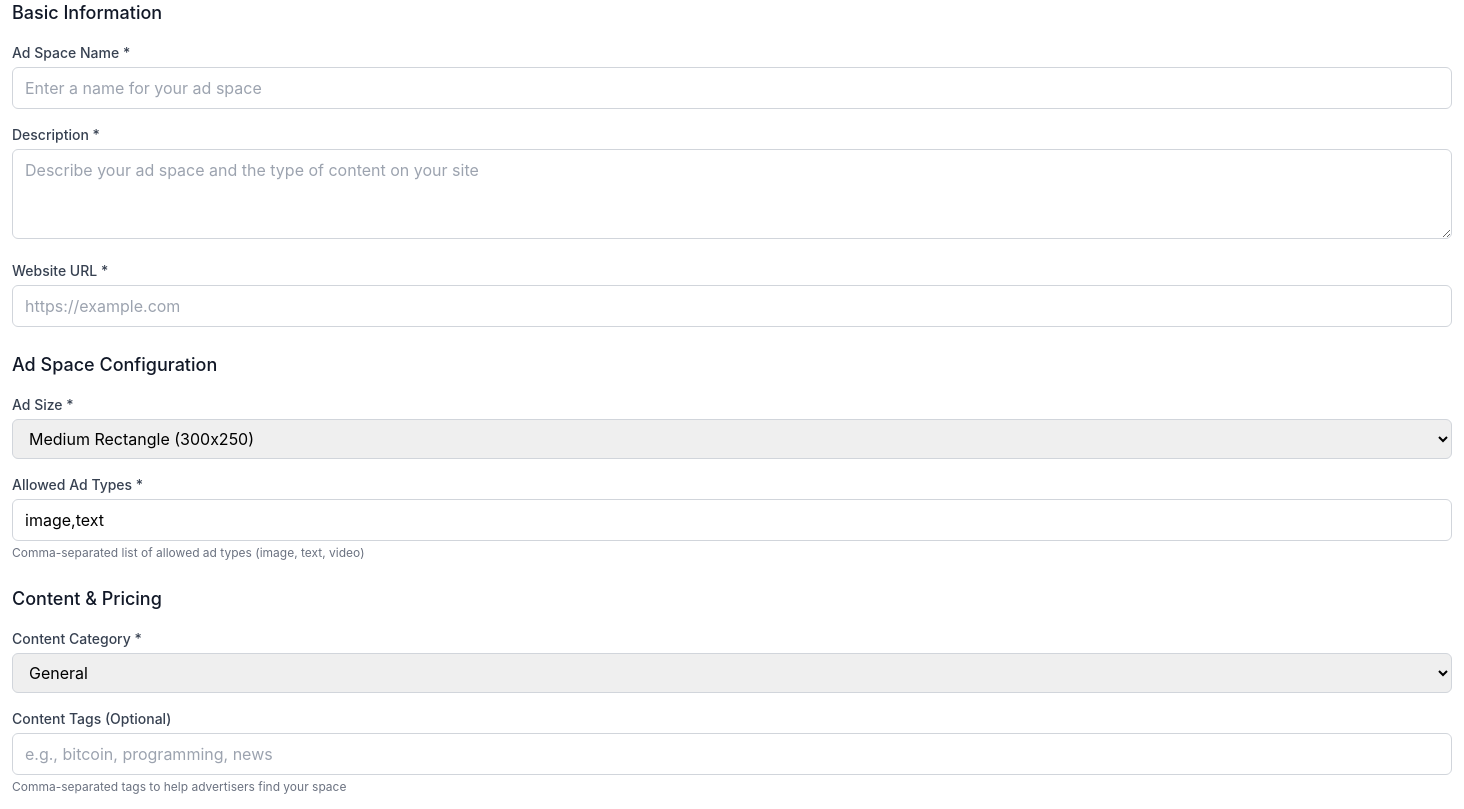
Scenario: SpaceForm Component › validates required fields
Clear the field labelled "Website URL *" at point(732, 306), box [12,285,1452,327]
(page scrolled)
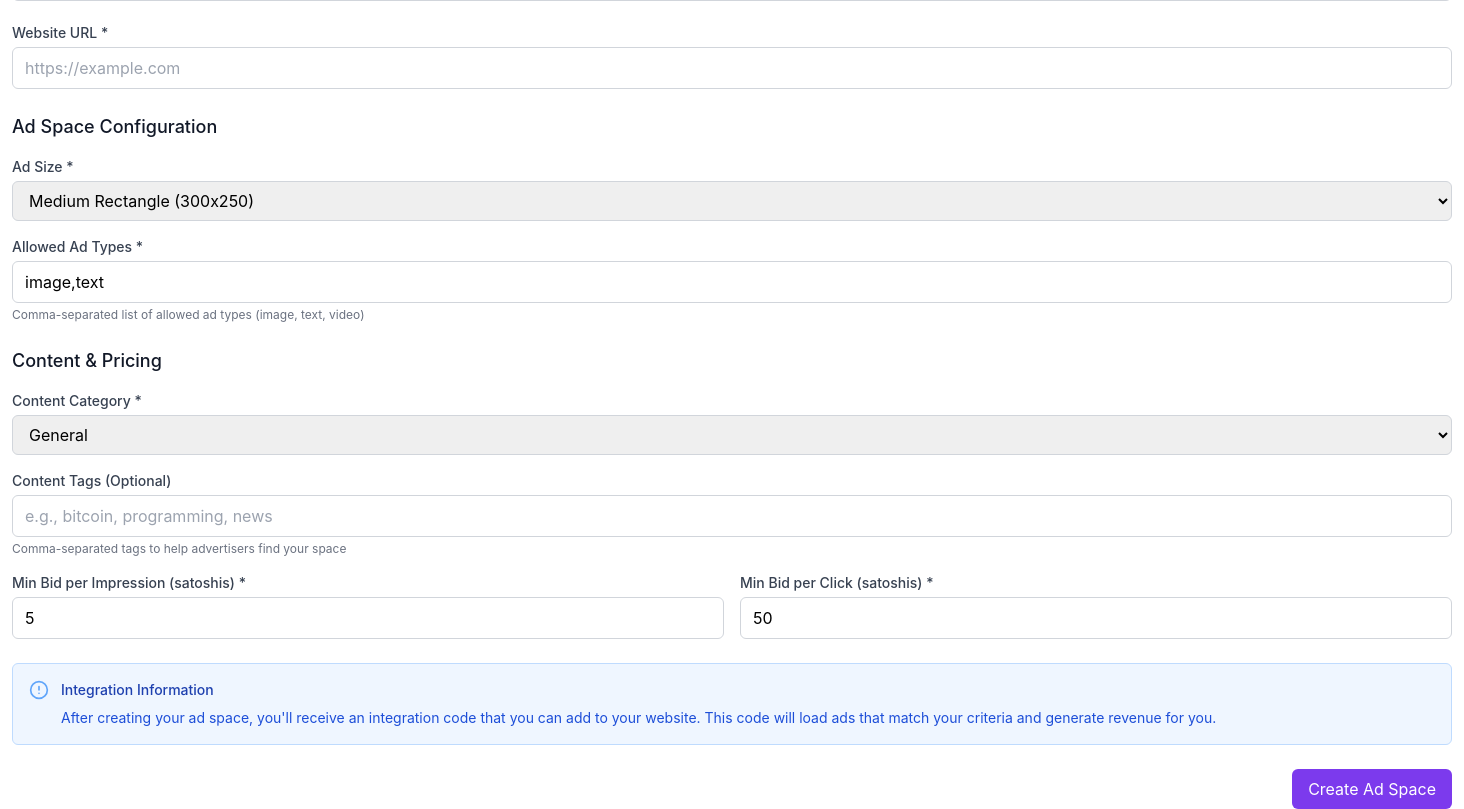
# Submit the form
Click the button "Create Ad Space" at point(1372, 789), box [1292,769,1452,808]
(page scrolled)
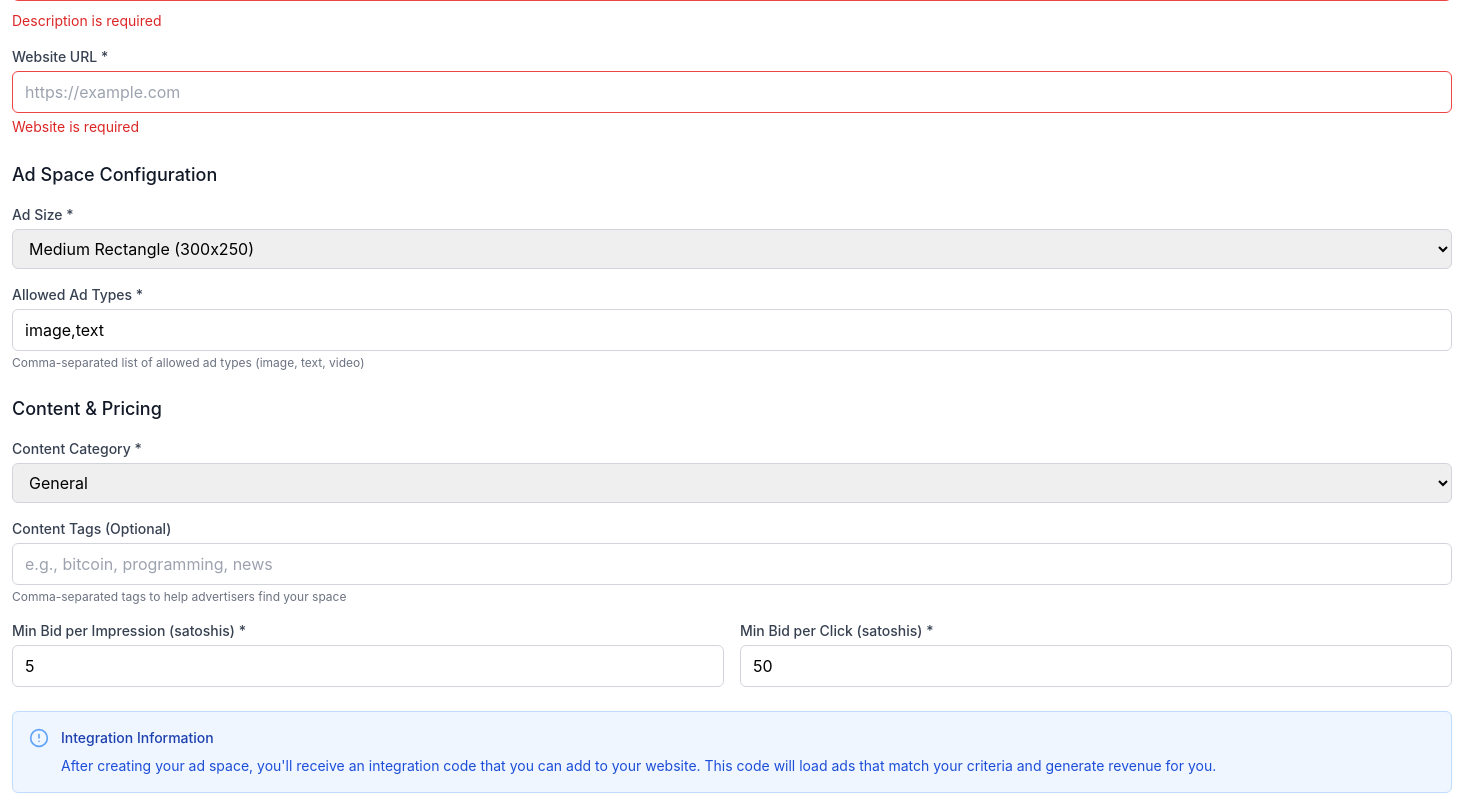
Now the text "Description is required" is shown, box [12,12,162,29]
Now the text "Website is required" is shown, box [12,118,139,135]
